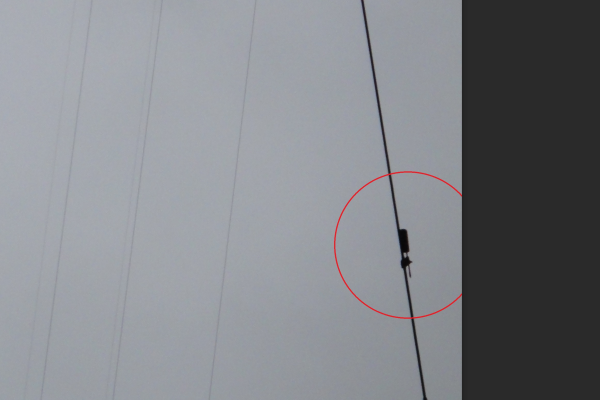damper_defect: (396, 227, 412, 280)
